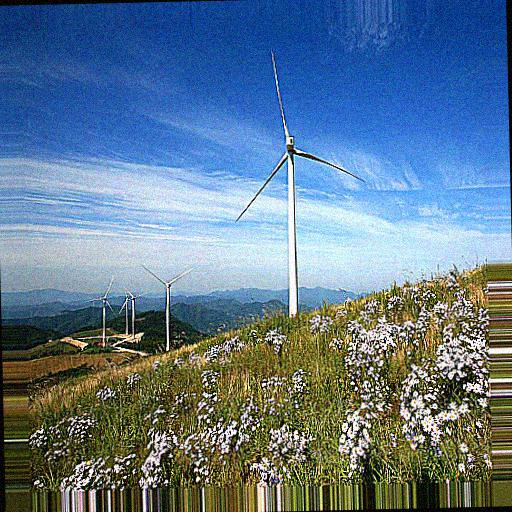wind turbine: (234, 51, 369, 314), (141, 262, 194, 357), (83, 276, 118, 346)
